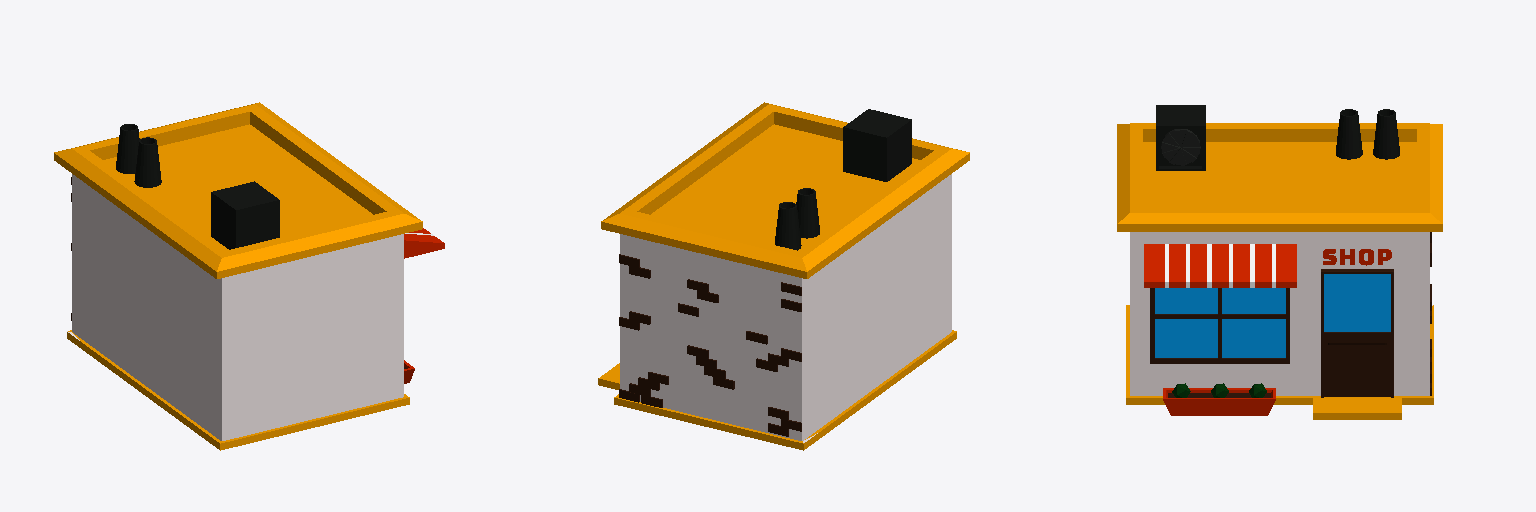
The model's file is shop_second.obj.
3 renders of one model, left to right at view 1: azimuth 30°, elevation 25°; view 2: azimuth 150°, elevation 25°; view 3: azimuth 270°, elevation 25°, orthographic.
Visible parts, largest first — view 1: polySurface1 pCube2, pCube2 polySurface11, pCube2 polySurface12, pCube2 polySurface10, pCube2 polySurface5; view 2: polySurface1 pCube2, pCube2 polySurface11, pCube2 polySurface10, pCube2 polySurface12; view 3: polySurface1 pCube2, pCube2 polySurface2, pCube2 polySurface3, pCube2 polySurface5, pCube2 polySurface6, pCube2 polySurface11, pCube2 polySurface13, pCube2 polySurface12, pCube2 polySurface10.
Part boxes in pixels (bbox=[...]): polySurface1 pCube2: bbox=[54, 102, 422, 450]; pCube2 polySurface11: bbox=[211, 181, 279, 249]; pCube2 polySurface12: bbox=[134, 137, 161, 187]; pCube2 polySurface10: bbox=[116, 124, 139, 173]; pCube2 polySurface5: bbox=[404, 228, 444, 258]; polySurface1 pCube2: bbox=[598, 102, 969, 450]; pCube2 polySurface11: bbox=[843, 109, 911, 181]; pCube2 polySurface10: bbox=[775, 202, 801, 250]; pCube2 polySurface12: bbox=[796, 188, 819, 238]; polySurface1 pCube2: bbox=[1117, 123, 1442, 419]; pCube2 polySurface2: bbox=[1150, 288, 1289, 363]; pCube2 polySurface3: bbox=[1321, 269, 1393, 397]; pCube2 polySurface5: bbox=[1144, 244, 1296, 287]; pCube2 polySurface6: bbox=[1163, 388, 1275, 415]; pCube2 polySurface11: bbox=[1156, 105, 1205, 170]; pCube2 polySurface13: bbox=[1161, 129, 1200, 165]; pCube2 polySurface12: bbox=[1336, 109, 1362, 159]; pCube2 polySurface10: bbox=[1373, 109, 1399, 159].
Bounding box in the file's own units: 30.81 × 27.08 × 36.03.